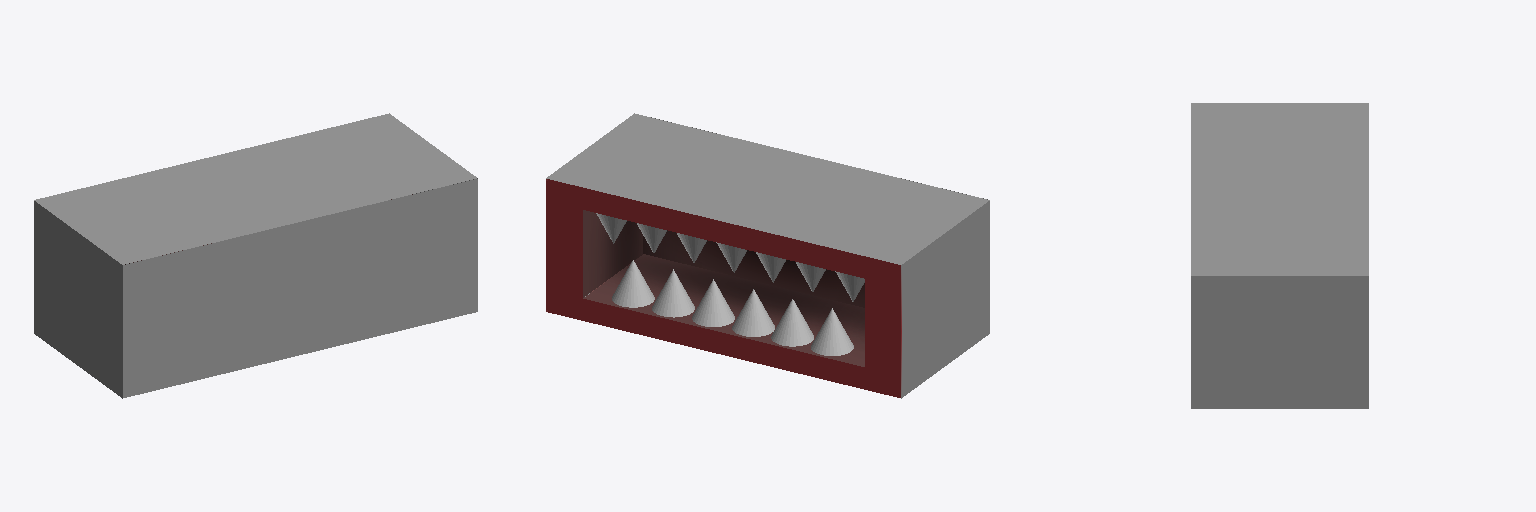
3 renders of one model, left to right at view 1: azimuth 30°, elevation 25°; view 2: azimuth 150°, elevation 25°; view 3: azimuth 270°, elevation 25°, orthographic.
Parts seen in each view (by area): view 1: head.007; view 2: head.007; view 3: head.007.
Boxes of the visible parts, box(x1,y1,x2,y2) form: head.007: box(34, 113, 477, 398); head.007: box(546, 113, 989, 398); head.007: box(1191, 103, 1368, 408).
Bounding box in the file's own units: 1.65 × 0.592 × 0.7152.
Materials: 1 (1 with a texture image).